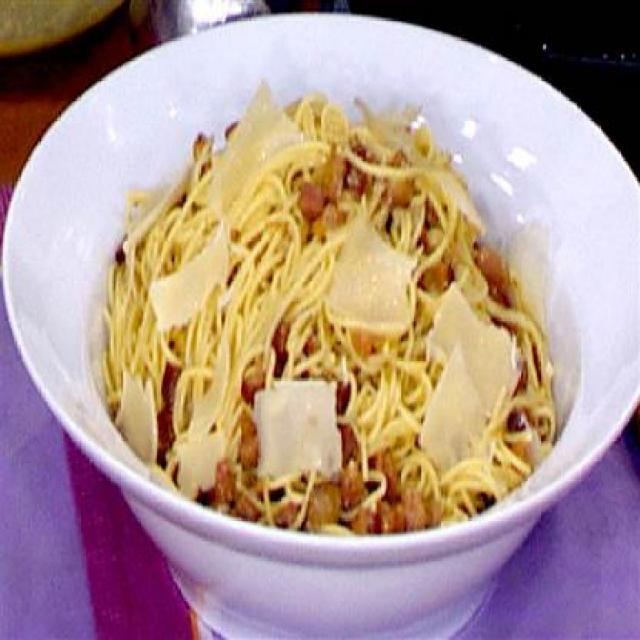Pasta with carbonara sauce: (117, 73, 563, 569)
